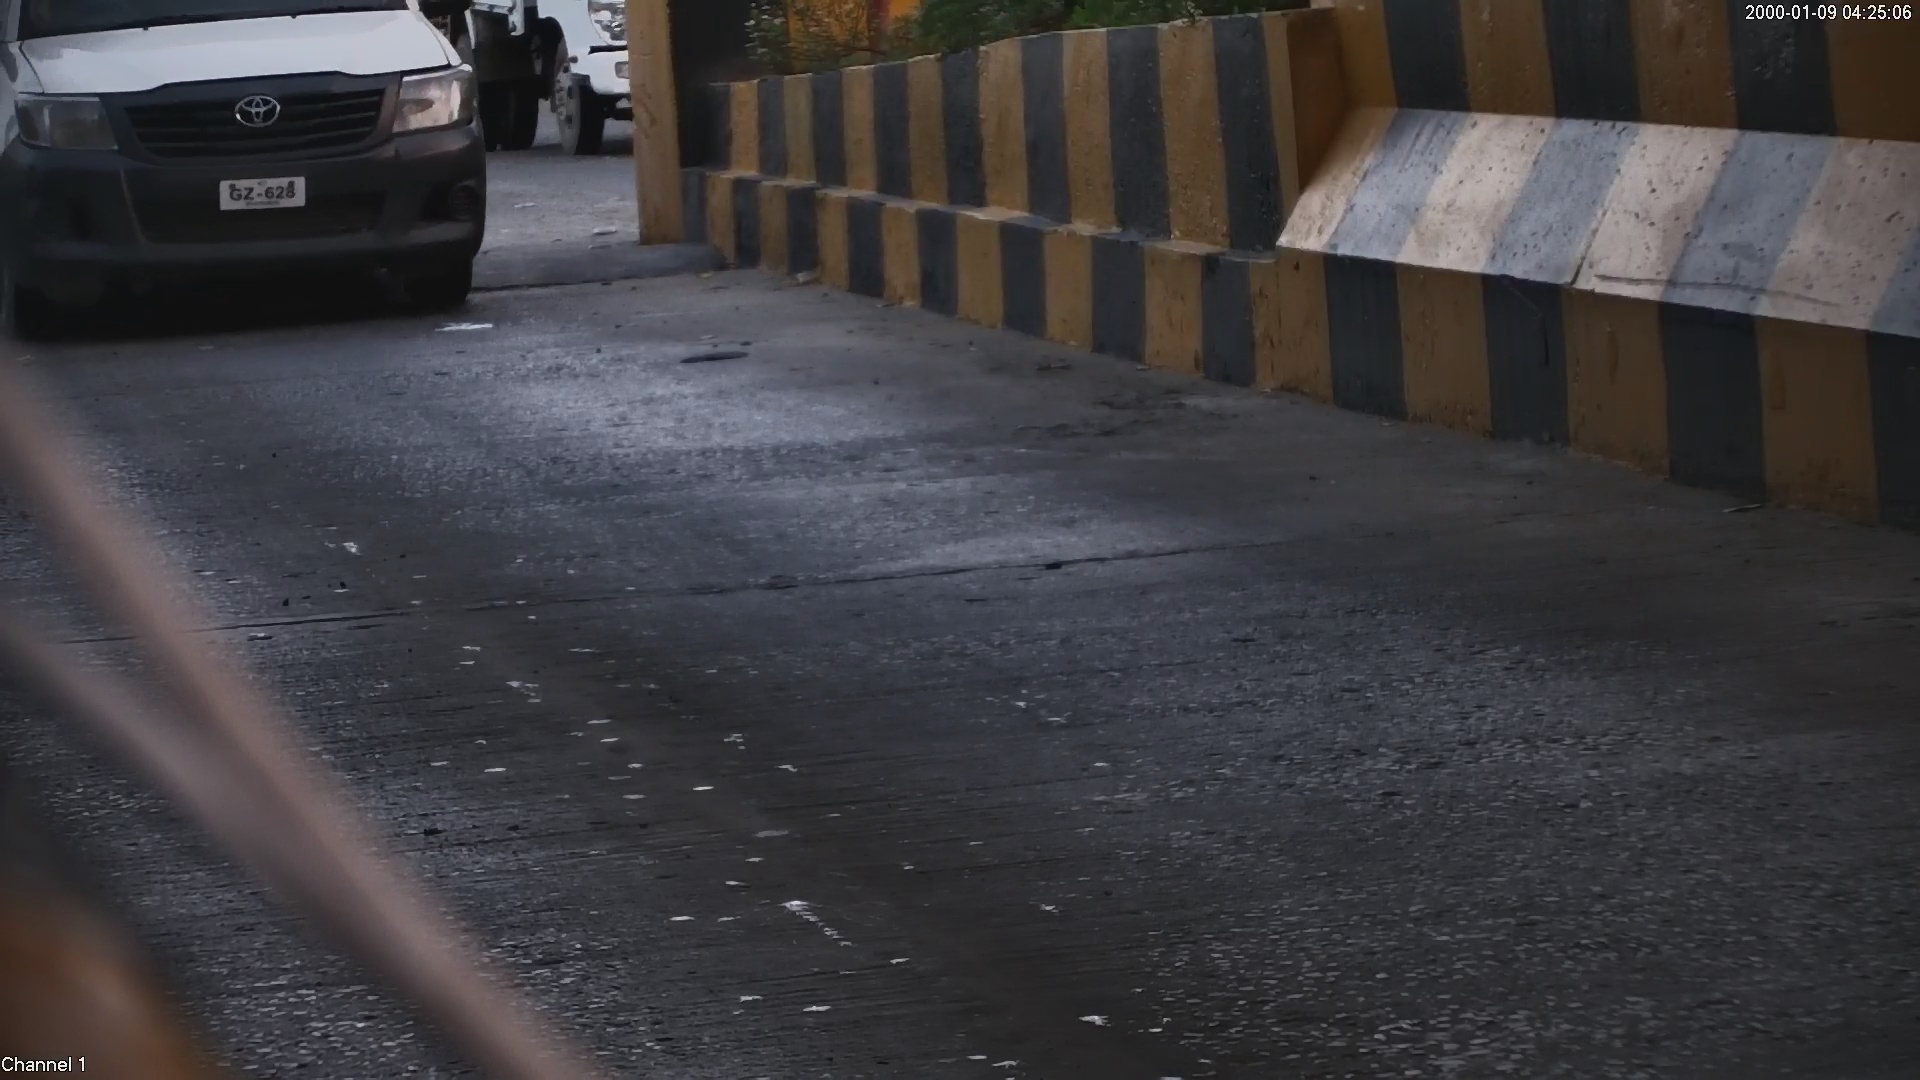Number_Plate: (204, 173, 315, 212)
